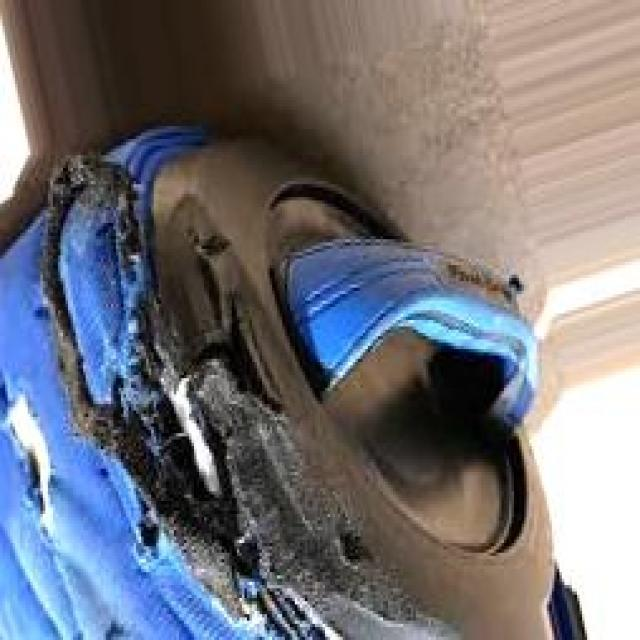Damage-bag: (31, 126, 450, 640), (0, 371, 59, 531), (104, 619, 140, 640)
